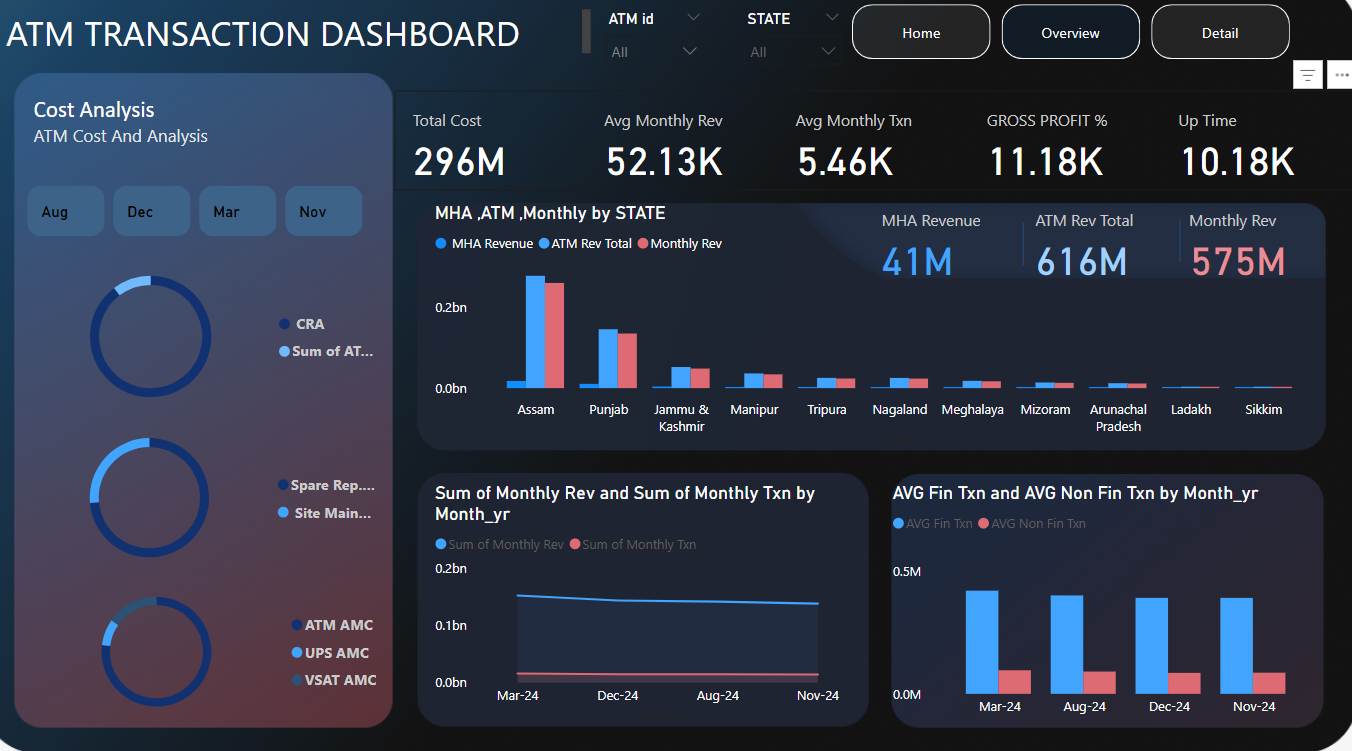

The page's visual inventory and layout, read from the dashboard file:
{"tool":"powerbi","page":{"name":"Overview","canvas":[1280,720],"ordinal":1},"visuals":[{"type":"areaChart","fields":{"Category":["Dataset.Month_yr"],"Y":["Sum(Dataset.Monthly Rev)","Sum(Dataset.Monthly Txn)"]},"box":[416,463.8,403.7,227],"z":0},{"type":"clusteredColumnChart","fields":{"Category":["Dataset.Month_yr"],"Y":["Sum(Dataset.AVG Fin Txn)","Sum(Dataset.AVG Non Fin Txn)"]},"box":[842,463.8,410,227.5],"z":1000},{"type":"donutChart","fields":{"Y":["Sum(Dataset.ATM AMC)","Sum(Dataset.UPS AMC)","Sum(Dataset.VSAT AMC)"]},"box":[32.5,553.8,348.8,137.5],"z":2000},{"type":"donutChart","fields":{"Y":["Sum(Dataset.Spare Rep.(UPS))","Sum(Dataset.Site Maint (Non Asset))"]},"box":[32.5,405,348.8,148.8],"z":3000},{"type":"donutChart","fields":{"Y":["Sum(Dataset.CRA)","Sum(Dataset.ATM AMC)"]},"box":[33.8,253.8,348.8,151.2],"z":4000},{"type":"clusteredColumnChart","title":"MHA ,ATM ,Monthly  by STATE","fields":{"Y":["Sum(Dataset.MHA Revenue)","Sum(Dataset.ATM Rev Total)","Sum(Dataset.Monthly Rev)"],"Category":["Dataset.STATE"]},"box":[416,203.7,835.6,234.4],"z":5000},{"type":"advancedSlicerVisual","fields":{"Values":["Dataset.Short_month"]},"box":[37.5,183.8,325,57.5],"z":6000},{"type":"textbox","box":[42.5,100,315,67.5],"z":7000},{"type":"cardVisual","fields":{"Data":["Sum(Dataset. Total Cost  )","Avg(Dataset.Monthly Rev)","Avg(Dataset.Monthly Txn)","Sum(Dataset.GROSS PROFIT %)","Sum(Dataset.Up Time)"]},"box":[384.1,100,896.3,92.7],"z":8000},{"type":"cardVisual","title":"MHA ,ATM ,Monthly  by STATE","fields":{"Data":["Sum(Dataset.MHA Revenue)","Sum(Dataset.ATM Rev Total)","Sum(Dataset.Monthly Rev)"]},"box":[819.6,192.6,431.9,93.3],"z":9000},{"type":"pageNavigator","box":[809.8,19.6,409.8,51.5],"z":10000},{"type":"textbox","box":[17.1,19.5,553.7,51.2],"z":11000},{"type":"slicer","fields":{"Values":["Dataset.ATM id"]},"box":[569.5,19.2,111.1,67.2],"z":11001},{"type":"slicer","fields":{"Values":["Dataset.STATE"]},"box":[698.5,19.2,111.1,67.2],"z":11002}]}

Visuals, with their boxes in screenshot pixels (x1, y1, x2, y2), scaled from the page's 1280x720 canvas onto the 1352x751 screenshot:
areaChart - Dataset.Month_yr x Sum(Dataset.Monthly Rev): bbox=[439, 484, 866, 721]
clusteredColumnChart - Dataset.Month_yr x Sum(Dataset.AVG Fin Txn): bbox=[889, 484, 1322, 721]
donutChart - Sum(Dataset.ATM AMC) x Sum(Dataset.UPS AMC): bbox=[34, 578, 403, 721]
donutChart - Sum(Dataset.Spare Rep.(UPS)) x Sum(Dataset.Site Maint (Non Asset)): bbox=[34, 422, 403, 578]
donutChart - Sum(Dataset.CRA) x Sum(Dataset.ATM AMC): bbox=[36, 265, 404, 422]
"MHA ,ATM ,Monthly  by STATE" clusteredColumnChart: bbox=[439, 212, 1322, 457]
advancedSlicerVisual - Dataset.Short_month: bbox=[40, 192, 383, 252]
textbox: bbox=[45, 104, 378, 175]
cardVisual - Sum(Dataset. Total Cost  ) x Avg(Dataset.Monthly Rev): bbox=[406, 104, 1351, 201]
"MHA ,ATM ,Monthly  by STATE" cardVisual: bbox=[866, 201, 1322, 298]
pageNavigator: bbox=[855, 20, 1288, 74]
textbox: bbox=[18, 20, 603, 74]
slicer - Dataset.ATM id: bbox=[602, 20, 719, 90]
slicer - Dataset.STATE: bbox=[738, 20, 855, 90]
